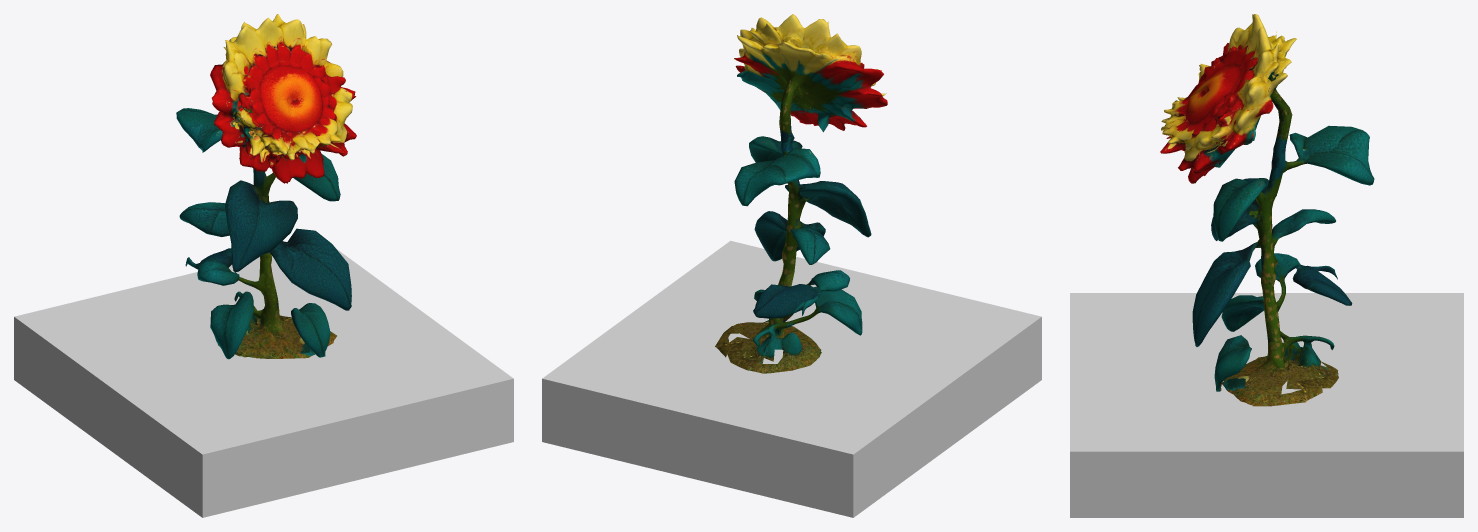
File: sunflower.glb
3 renders of one model, left to right at view 1: azimuth 30°, elevation 25°; view 2: azimuth 150°, elevation 25°; view 3: azimuth 270°, elevation 25°, orthographic. The views are drawn at different scales.
Parts seen in each view (by area): view 1: sunflower; view 2: sunflower; view 3: sunflower.
Boxes of the visible parts, left/top/right/bottom form: sunflower: left=14, top=14, right=513, bottom=517; sunflower: left=542, top=14, right=1041, bottom=517; sunflower: left=1070, top=14, right=1463, bottom=517.
Bounding box in the file's own units: 0.2762 × 0.3346 × 0.2895.
Materials: 2 (1 with a texture image).
